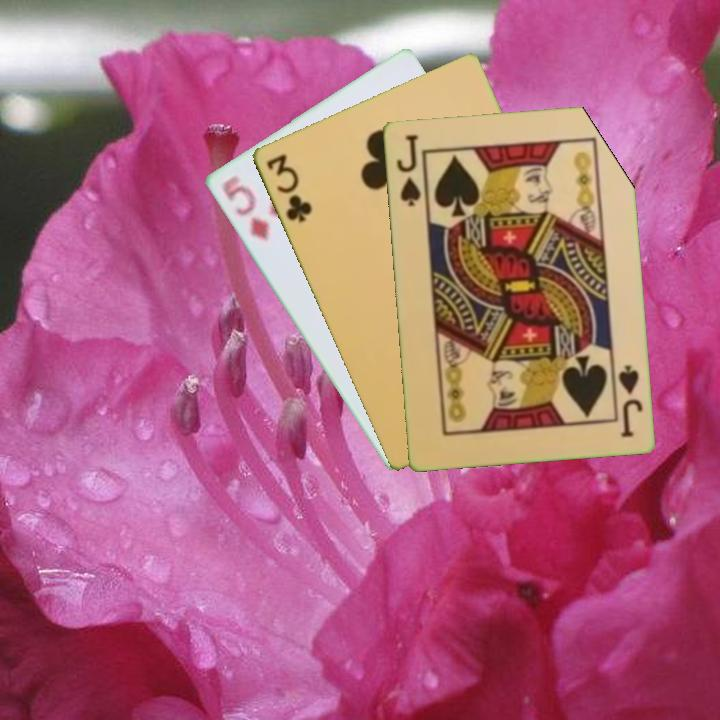3c: (262, 150, 315, 225)
5d: (218, 171, 271, 245)
Js: (610, 361, 645, 440), (392, 131, 423, 209)
